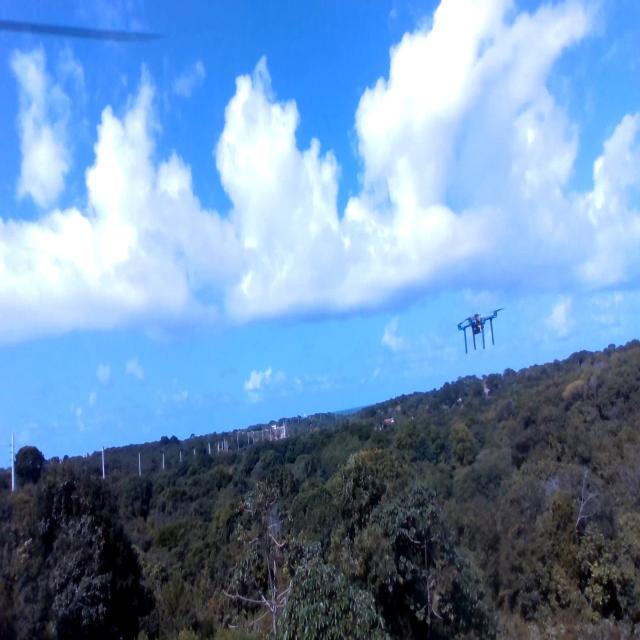-uav-: (452, 296, 508, 362)
